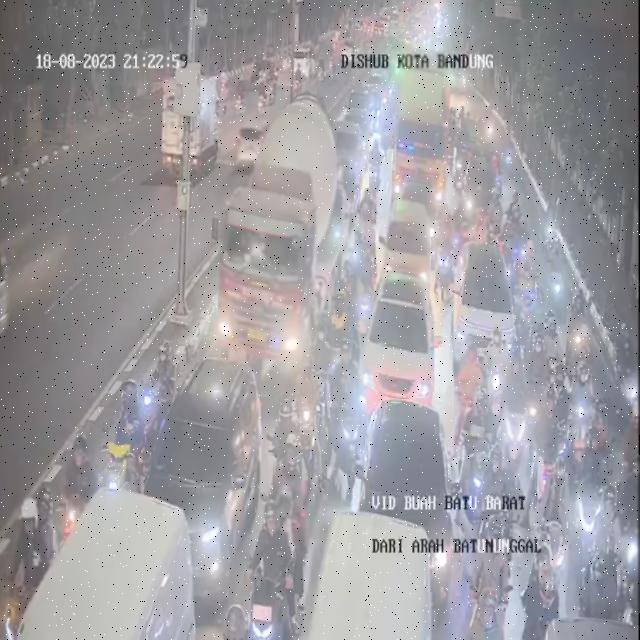cars: (147, 362, 266, 600), (4, 497, 183, 638), (309, 507, 440, 638), (368, 392, 450, 592), (355, 268, 434, 420), (452, 240, 516, 378), (380, 203, 430, 291), (337, 112, 365, 189), (399, 171, 439, 221), (354, 84, 377, 128)
motorcycle: (248, 488, 298, 638), (0, 488, 53, 618), (474, 517, 508, 640), (116, 372, 151, 487), (532, 519, 565, 640), (462, 391, 497, 504), (332, 356, 362, 479), (617, 455, 640, 613), (502, 356, 529, 477), (569, 421, 591, 552), (66, 434, 98, 524), (274, 462, 308, 546), (290, 366, 318, 456), (148, 333, 177, 417), (621, 312, 640, 435), (484, 320, 508, 417), (579, 348, 601, 453), (274, 398, 302, 480), (519, 352, 547, 429), (595, 410, 612, 533), (454, 337, 477, 427), (528, 317, 552, 399), (551, 356, 571, 452), (575, 338, 594, 438), (332, 276, 351, 372), (568, 290, 593, 362), (435, 212, 458, 290), (310, 326, 336, 392), (589, 356, 606, 456), (351, 210, 368, 302), (516, 251, 535, 333), (547, 237, 567, 314), (592, 406, 610, 488), (452, 193, 474, 255), (299, 418, 320, 473), (544, 308, 563, 360), (512, 206, 530, 258), (369, 138, 384, 198), (507, 204, 523, 258), (473, 202, 490, 252), (358, 210, 375, 260), (335, 254, 351, 303), (487, 195, 507, 233), (481, 110, 499, 151), (592, 403, 606, 455), (502, 132, 519, 174), (452, 134, 465, 188), (362, 191, 376, 227), (381, 105, 392, 149)
truck: (218, 114, 354, 370), (399, 52, 448, 214)
